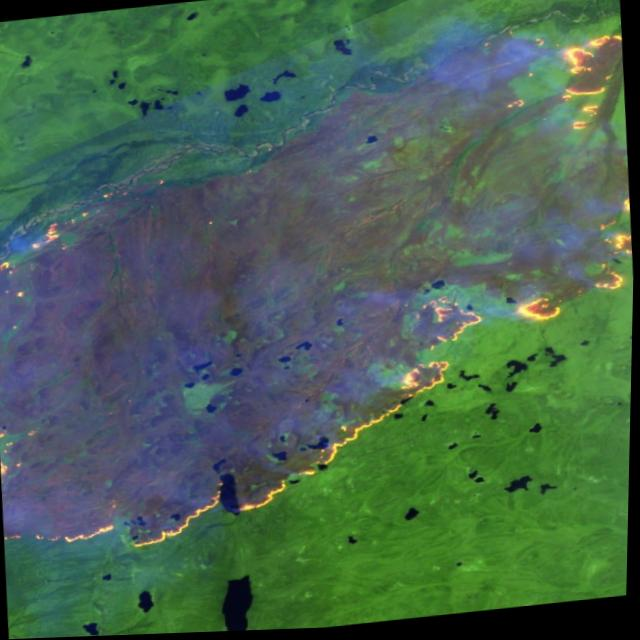fire: (0, 12, 639, 566)
